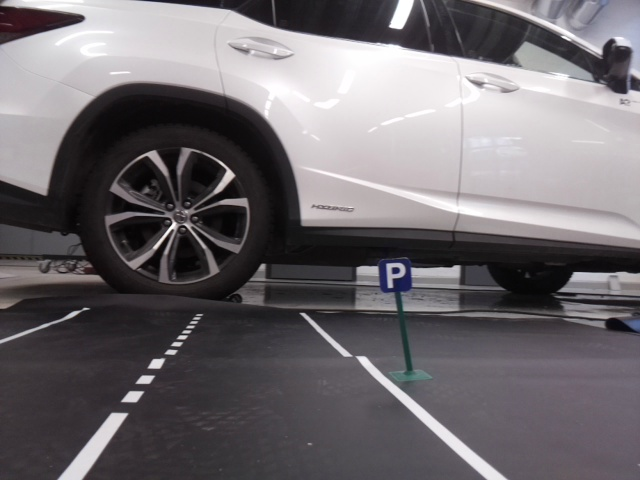Parking: (375, 258, 411, 292)
